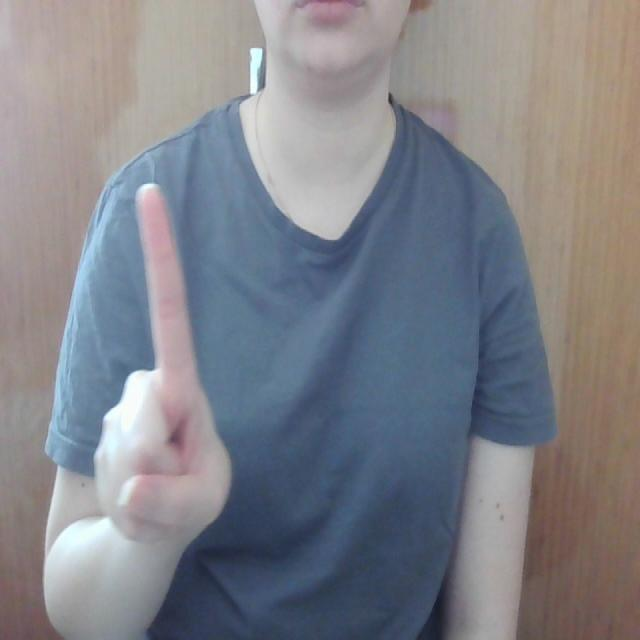Hayir: (94, 157, 251, 559)
